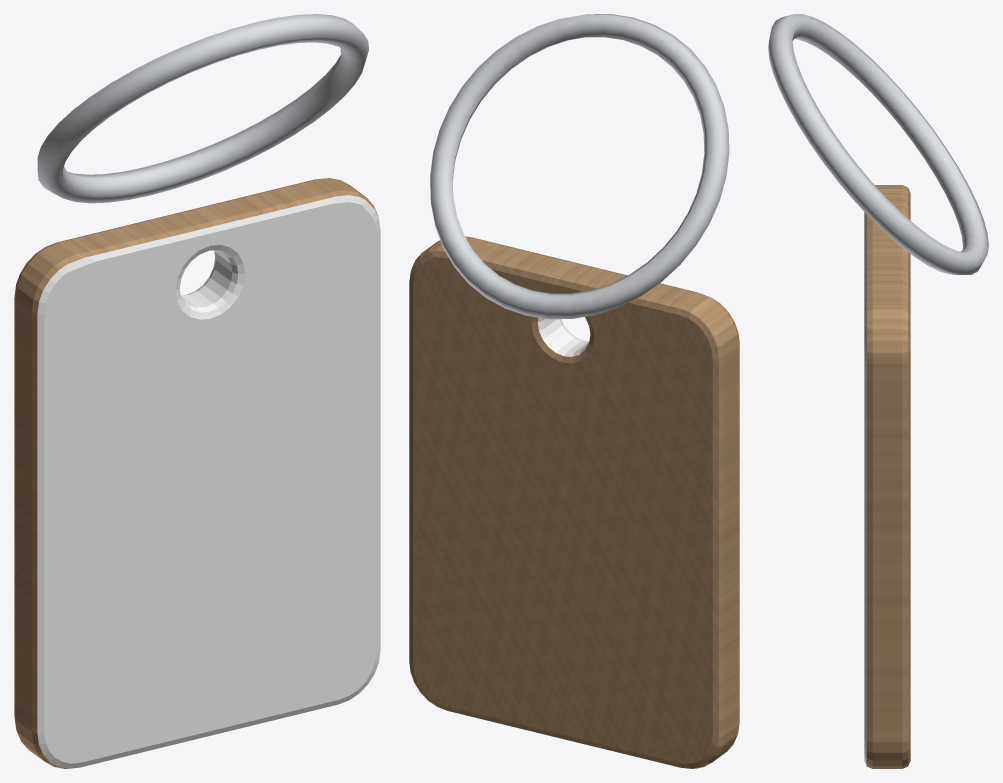
3 renders of one model, left to right at view 1: azimuth 30°, elevation 25°; view 2: azimuth 150°, elevation 25°; view 3: azimuth 270°, elevation 25°, orthographic. The views are drawn at different scales.
Visible parts, largest first — view 1: MDF-Schlüsselanhänger, Schlüsselring; view 2: MDF-Schlüsselanhänger, Schlüsselring; view 3: MDF-Schlüsselanhänger, Schlüsselring.
Part boxes in pixels (x1,y1,x2,y2): MDF-Schlüsselanhänger: (14,178,380,768); Schlüsselring: (37,14,368,203); MDF-Schlüsselanhänger: (409,236,739,768); Schlüsselring: (430,14,729,319); MDF-Schlüsselanhänger: (864,185,910,768); Schlüsselring: (768,14,988,274).
Size of the model in its own units: 0.039 by 0.0804 by 0.0238.
Materials: 3 (1 with a texture image).
